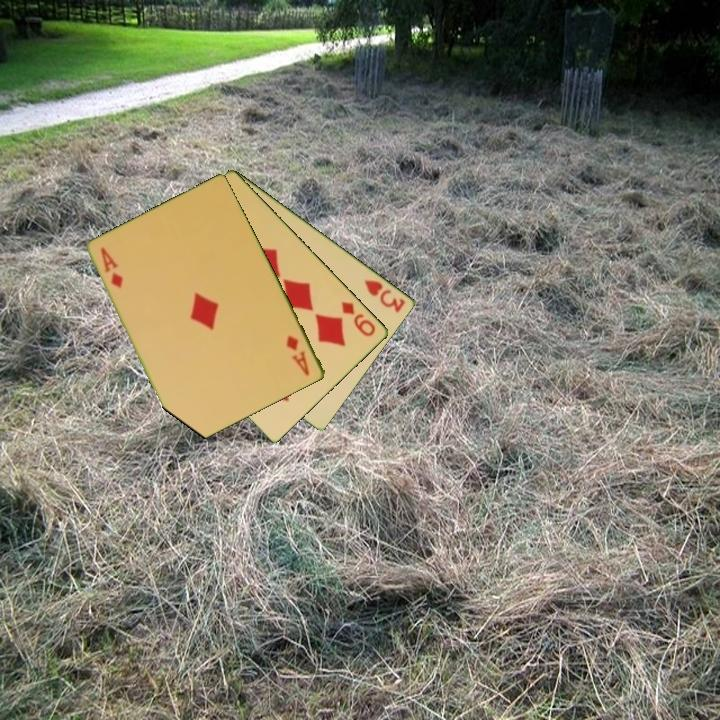3h: (361, 276, 409, 315)
9d: (338, 298, 379, 339)
Ad: (283, 332, 313, 379), (97, 243, 126, 291)
